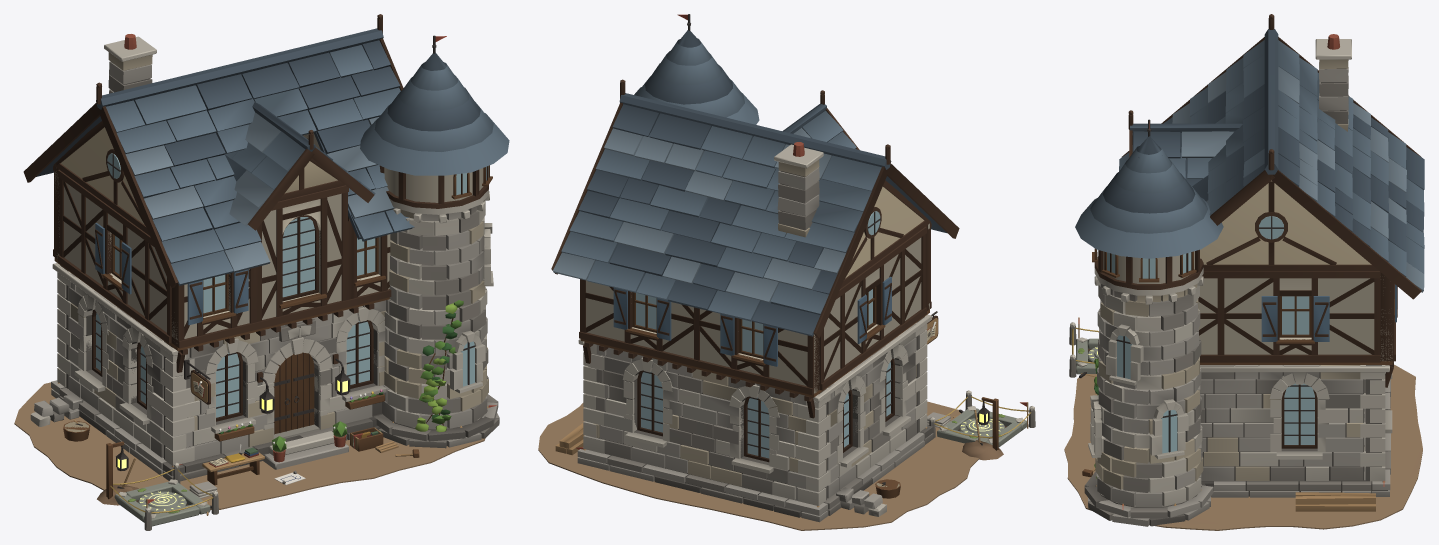
File: library.glb
3 renders of one model, left to right at view 1: azimuth 30°, elevation 25°; view 2: azimuth 150°, elevation 25°; view 3: azimuth 270°, elevation 25°, orthographic. The views are drawn at different scales.
Parts seen in each view (by area): view 1: stage_11_mesh, stage_05_mesh, stage_07_mesh, stage_04_mesh, stage_12_mesh, stage_09_mesh, stage_08_mesh, stage_01_mesh, stage_06_mesh, stage_02_mesh, stage_13_mesh, stage_10_mesh (+3 smaller); view 2: stage_11_mesh, stage_05_mesh, stage_04_mesh, stage_07_mesh, stage_08_mesh, stage_09_mesh, stage_01_mesh, stage_02_mesh, stage_12_mesh, stage_03_mesh, stage_14_mesh; view 3: stage_11_mesh, stage_05_mesh, stage_08_mesh, stage_12_mesh, stage_04_mesh, stage_01_mesh, stage_07_mesh, stage_06_mesh, stage_09_mesh, stage_02_mesh, stage_03_mesh, stage_14_mesh.
Part boxes in pixels (box(x1,y1,x2,y2)): stage_11_mesh: box(23, 14, 414, 287); stage_05_mesh: box(52, 263, 487, 465); stage_07_mesh: box(53, 138, 391, 372); stage_04_mesh: box(30, 325, 488, 460); stage_12_mesh: box(360, 35, 509, 208); stage_09_mesh: box(74, 215, 386, 433); stage_08_mesh: box(53, 121, 391, 343); stage_01_mesh: box(14, 382, 496, 509); stage_06_mesh: box(389, 189, 493, 309); stage_02_mesh: box(51, 380, 499, 481); stage_13_mesh: box(202, 300, 463, 485); stage_10_mesh: box(273, 319, 321, 438); stage_11_mesh: box(551, 79, 959, 338); stage_05_mesh: box(578, 314, 931, 505); stage_04_mesh: box(585, 373, 924, 516); stage_07_mesh: box(555, 223, 931, 455); stage_08_mesh: box(586, 180, 930, 393); stage_09_mesh: box(613, 276, 910, 473); stage_01_mesh: box(538, 401, 978, 530); stage_02_mesh: box(577, 425, 933, 522); stage_12_mesh: box(634, 14, 759, 124); stage_03_mesh: box(927, 402, 1028, 460); stage_14_mesh: box(926, 311, 1035, 450); stage_11_mesh: box(1119, 14, 1424, 299); stage_05_mesh: box(1088, 365, 1389, 481); stage_08_mesh: box(1198, 180, 1392, 361); stage_12_mesh: box(1075, 119, 1223, 289); stage_04_mesh: box(1095, 422, 1384, 507); stage_01_mesh: box(1064, 364, 1422, 530); stage_07_mesh: box(1198, 271, 1395, 511); stage_06_mesh: box(1094, 268, 1203, 389); stage_09_mesh: box(1261, 284, 1397, 459); stage_02_mesh: box(1084, 379, 1390, 526); stage_03_mesh: box(1076, 317, 1098, 378); stage_14_mesh: box(1069, 322, 1098, 377).
Size of the model in its own units: 11.27 by 10.48 by 8.98.
